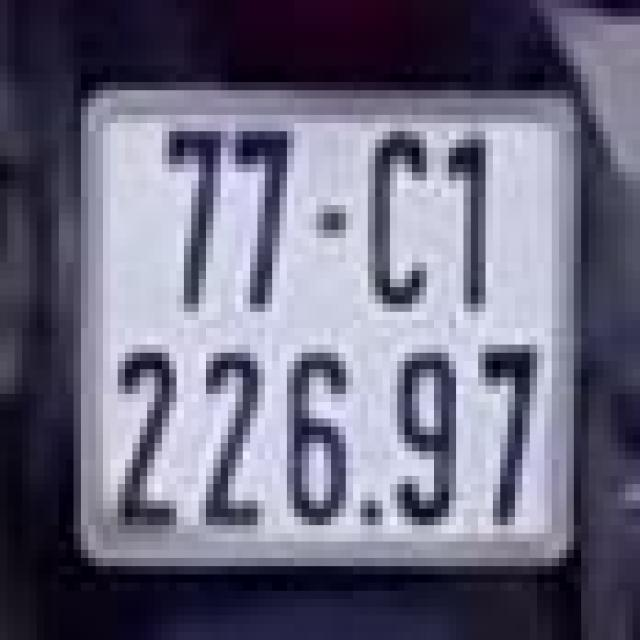1: (441, 127, 493, 324)
2: (100, 336, 180, 542), (188, 340, 268, 546)
6: (280, 340, 360, 538)
7: (475, 336, 548, 542), (162, 107, 228, 320), (228, 115, 302, 303)
9: (386, 336, 475, 542)
C: (353, 119, 434, 316)
